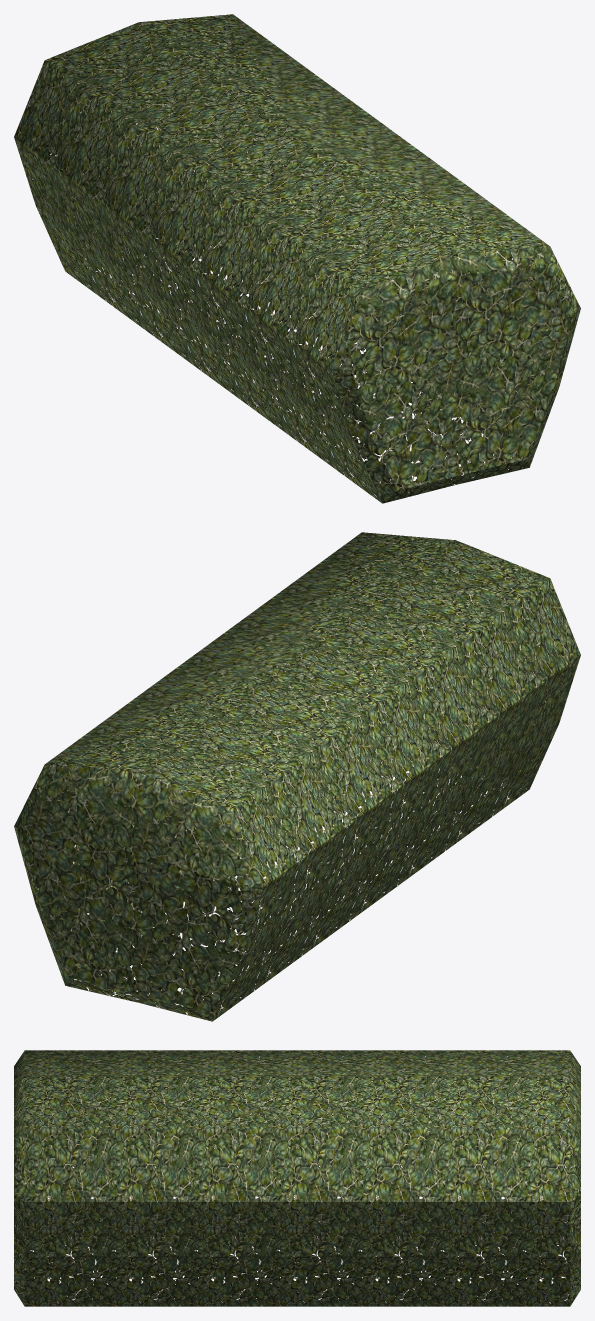
Rendered from BurfordHolly_Low_Lod01.fbx.
3 renders of one model, top to bottom at view 1: azimuth 30°, elevation 25°; view 2: azimuth 150°, elevation 25°; view 3: azimuth 270°, elevation 25°, orthographic. The views are drawn at different scales.
Parts seen in each view (by area): view 1: BurfordHolly_Low_Lod01; view 2: BurfordHolly_Low_Lod01; view 3: BurfordHolly_Low_Lod01.
Part boxes in pixels (bbox=[...]): BurfordHolly_Low_Lod01: bbox=[14, 14, 580, 503]; BurfordHolly_Low_Lod01: bbox=[14, 532, 580, 1021]; BurfordHolly_Low_Lod01: bbox=[14, 1050, 580, 1306].
Bounding box in the file's own units: 43.99 × 38.93 × 101.
